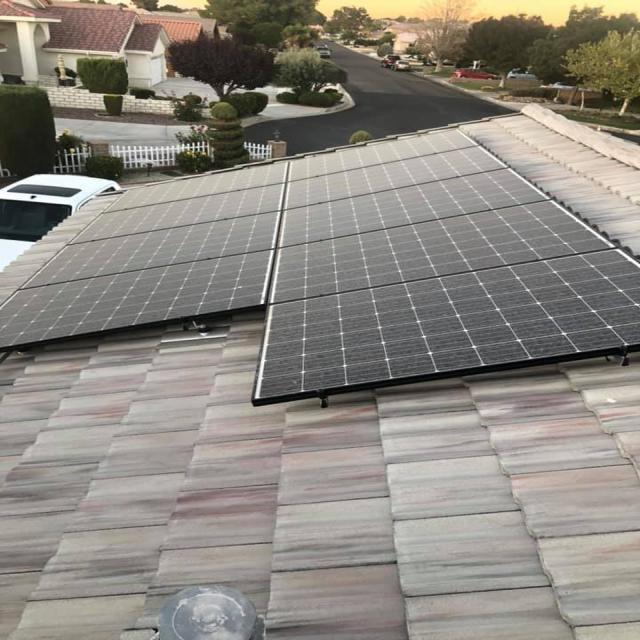Photovoltaic-Panel: (0, 123, 638, 404)
